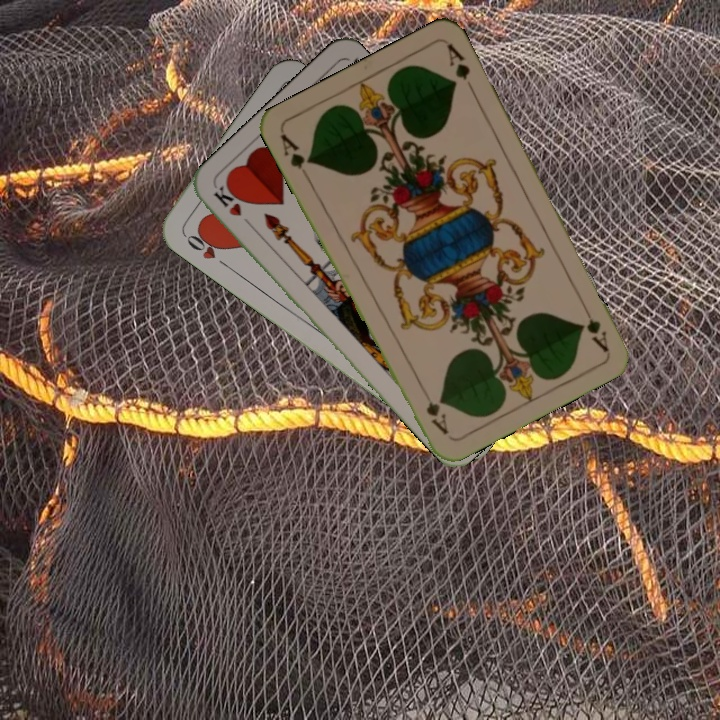GA: (276, 129, 314, 183), (577, 299, 611, 354)
HK: (209, 181, 257, 232)
HO: (180, 226, 232, 271)
